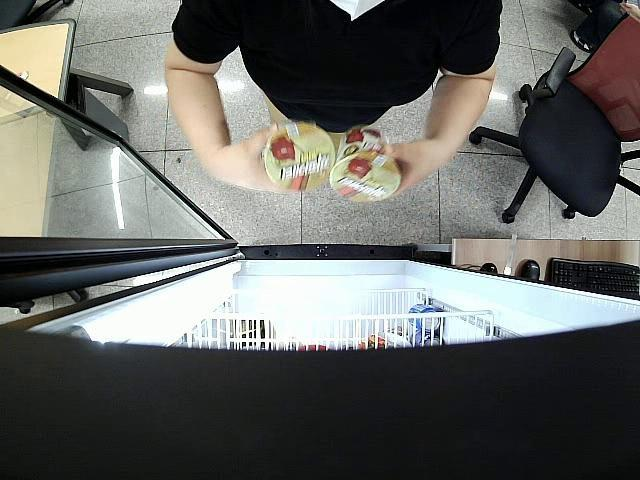04_chapagetti_S: (327, 128, 403, 202), (262, 121, 334, 190)
